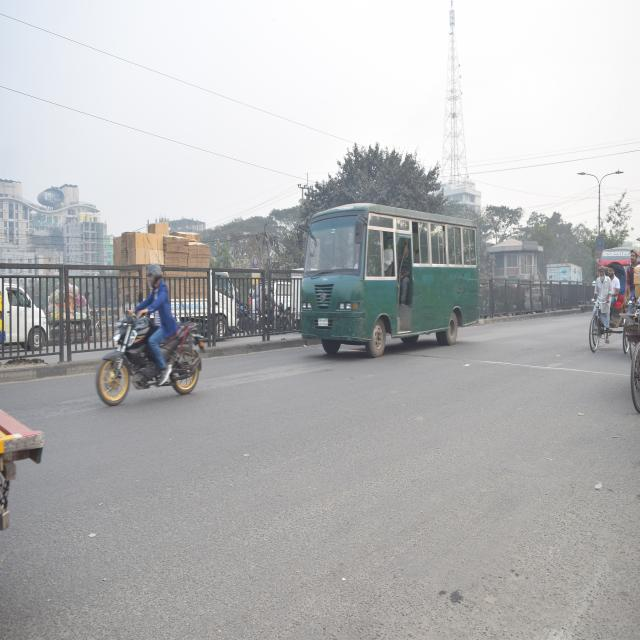bus: (302, 204, 476, 358)
motorbike: (94, 312, 205, 404), (259, 308, 292, 340), (236, 301, 253, 340)
pickup-van: (161, 252, 235, 338), (0, 269, 51, 352)
